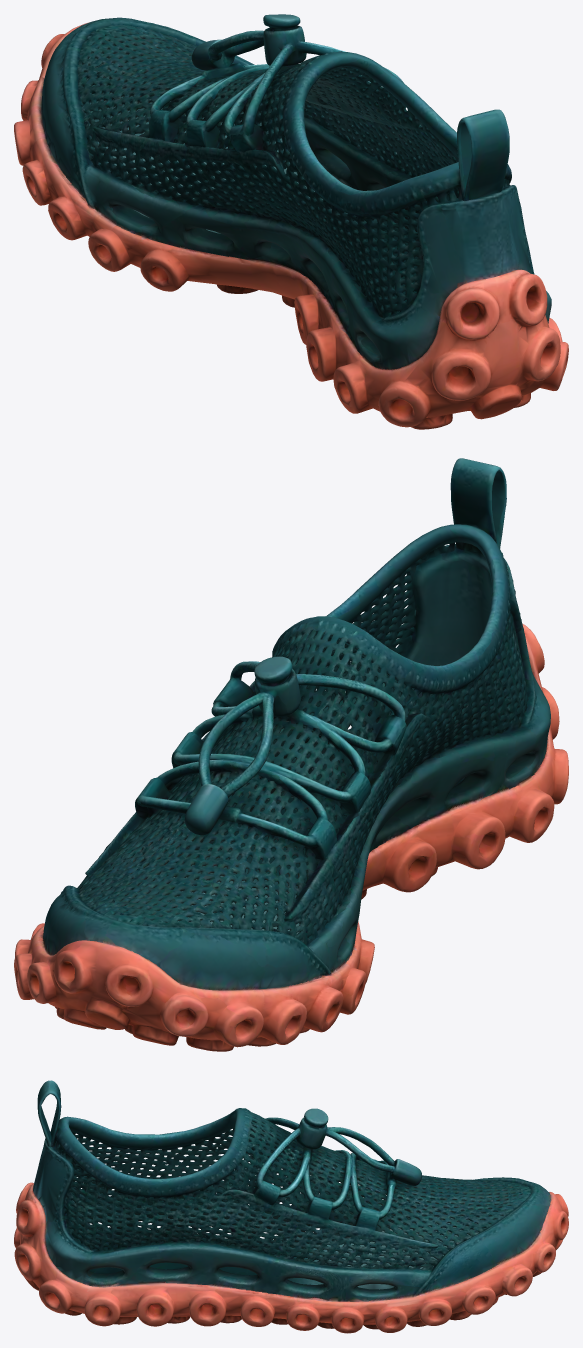
File: octo.glb
3 views of the same model, one above another, from view 1: azimuth 30°, elevation 25°; view 2: azimuth 150°, elevation 25°; view 3: azimuth 270°, elevation 25° (orthographic). The views are drawn at different scales.
Parts seen in each view (by area): view 1: tripo_node_7052beda-e534-43d6-9dbf-e547d4206235; view 2: tripo_node_7052beda-e534-43d6-9dbf-e547d4206235; view 3: tripo_node_7052beda-e534-43d6-9dbf-e547d4206235.
Boxes of the visible parts, x1,y1,x2,y2 form: tripo_node_7052beda-e534-43d6-9dbf-e547d4206235: (14, 14, 568, 429); tripo_node_7052beda-e534-43d6-9dbf-e547d4206235: (14, 458, 568, 1051); tripo_node_7052beda-e534-43d6-9dbf-e547d4206235: (14, 1080, 568, 1333).
Bounding box in the file's own units: 0.3925 × 0.425 × 0.9999.
1 material, 1 textured.
